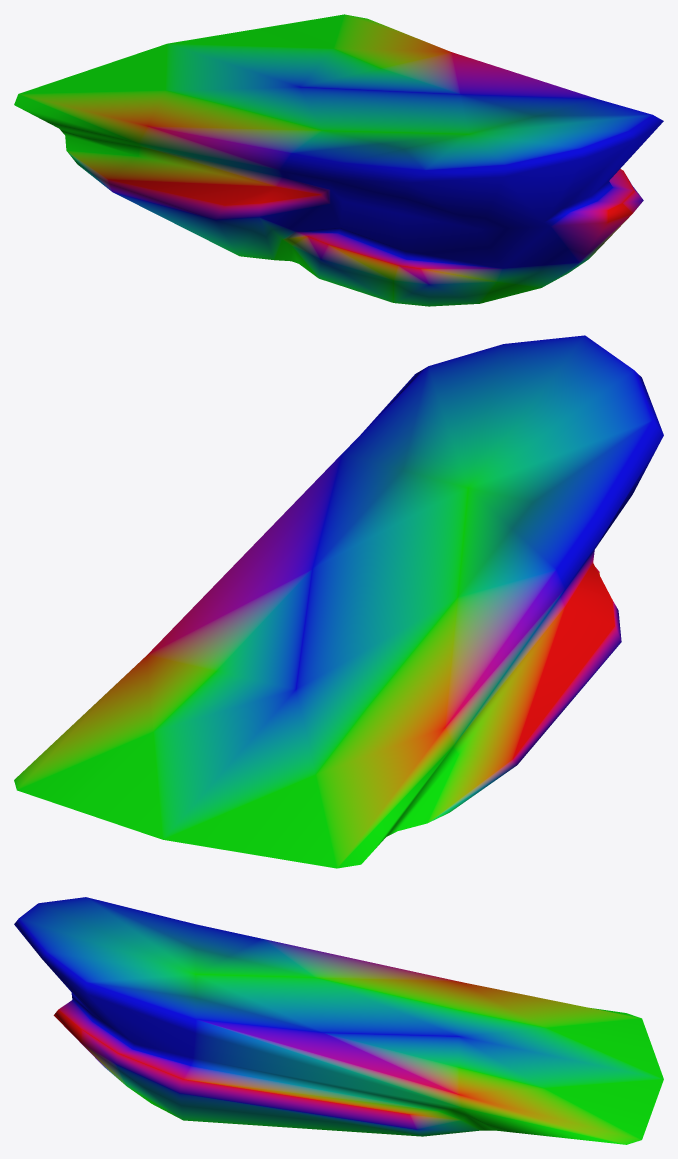
Rendered from M_Rock_Cliff_Big_C.FBX.
The picture shows the model from 3 angles, top to bottom: view 1: azimuth 30°, elevation 25°; view 2: azimuth 150°, elevation 25°; view 3: azimuth 270°, elevation 25°; orthographic projection. The views are drawn at different scales.
Parts seen in each view (by area): view 1: Rock_Cliff_Big_C; view 2: Rock_Cliff_Big_C; view 3: Rock_Cliff_Big_C.
Boxes of the visible parts, x1,y1,x2,y2 form: Rock_Cliff_Big_C: (14, 14, 663, 306); Rock_Cliff_Big_C: (14, 335, 663, 868); Rock_Cliff_Big_C: (14, 897, 663, 1144).
Bounding box in the file's own units: 1910 × 978 × 3651.
